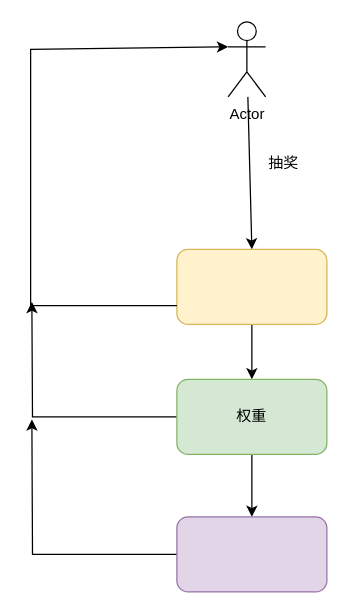
Some shapes in this 349 by 614 pixel diagram are drawn without their labels. Each missing label, with the box of its shape:
其他前置规则: (176, 516, 327, 592)
黑名单: (176, 248, 327, 324)
